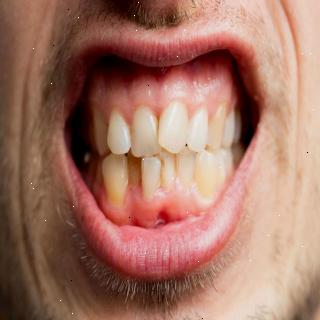LLCI_healthy: (157, 153, 176, 194)
LLC_healthy: (196, 151, 218, 199)
LLLI_healthy: (176, 152, 195, 185)
LRCI_healthy: (141, 157, 161, 196)
LRC_healthy: (102, 154, 128, 204)
LRLI_healthy: (128, 158, 141, 186)
UL1BC_healthy: (222, 113, 236, 148)
UL2BC_healthy: (234, 111, 241, 143)
ULCI_healthy: (159, 102, 189, 154)
ULC_healthy: (208, 103, 226, 149)
ULLI_healthy: (188, 108, 208, 152)
URCI_healthy: (130, 105, 159, 157)
URC_healthy: (93, 109, 107, 155)
URLI_healthy: (107, 110, 130, 154)
